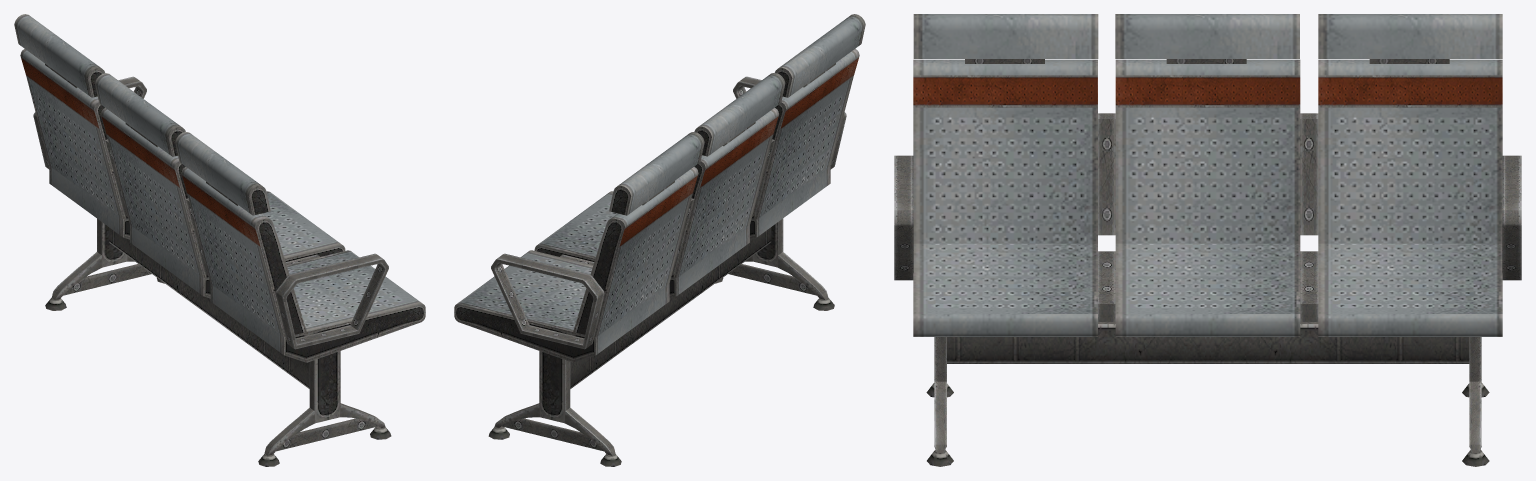
The model's file is Bench_01.FBX.
3 views of the same model, side by side, from view 1: azimuth 30°, elevation 25°; view 2: azimuth 150°, elevation 25°; view 3: azimuth 270°, elevation 25° (orthographic). The views are drawn at different scales.
Parts seen in each view (by area): view 1: Bench_01; view 2: Bench_01; view 3: Bench_01.
Part boxes in pixels (box(x1,y1,x2,y2)): Bench_01: box(14, 14, 425, 466); Bench_01: box(454, 14, 865, 466); Bench_01: box(894, 14, 1521, 466).
Size of the model in its own units: 0.6329 by 0.9893 by 1.55.
